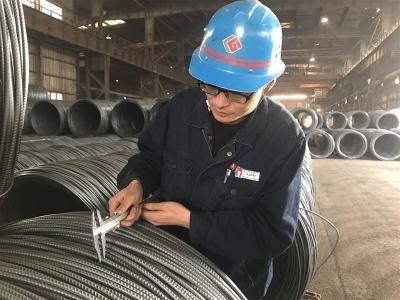helmet: (186, 0, 291, 124)
not_reflective: (138, 93, 308, 287)
